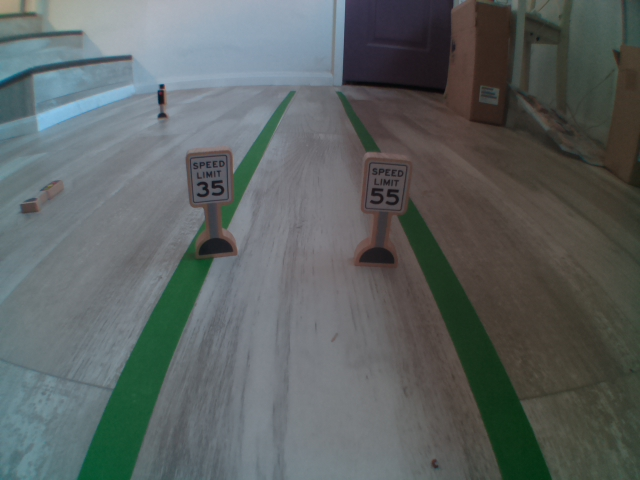Speed Limit 35: (186, 152, 234, 207)
Speed Limit 55: (364, 155, 404, 214)
